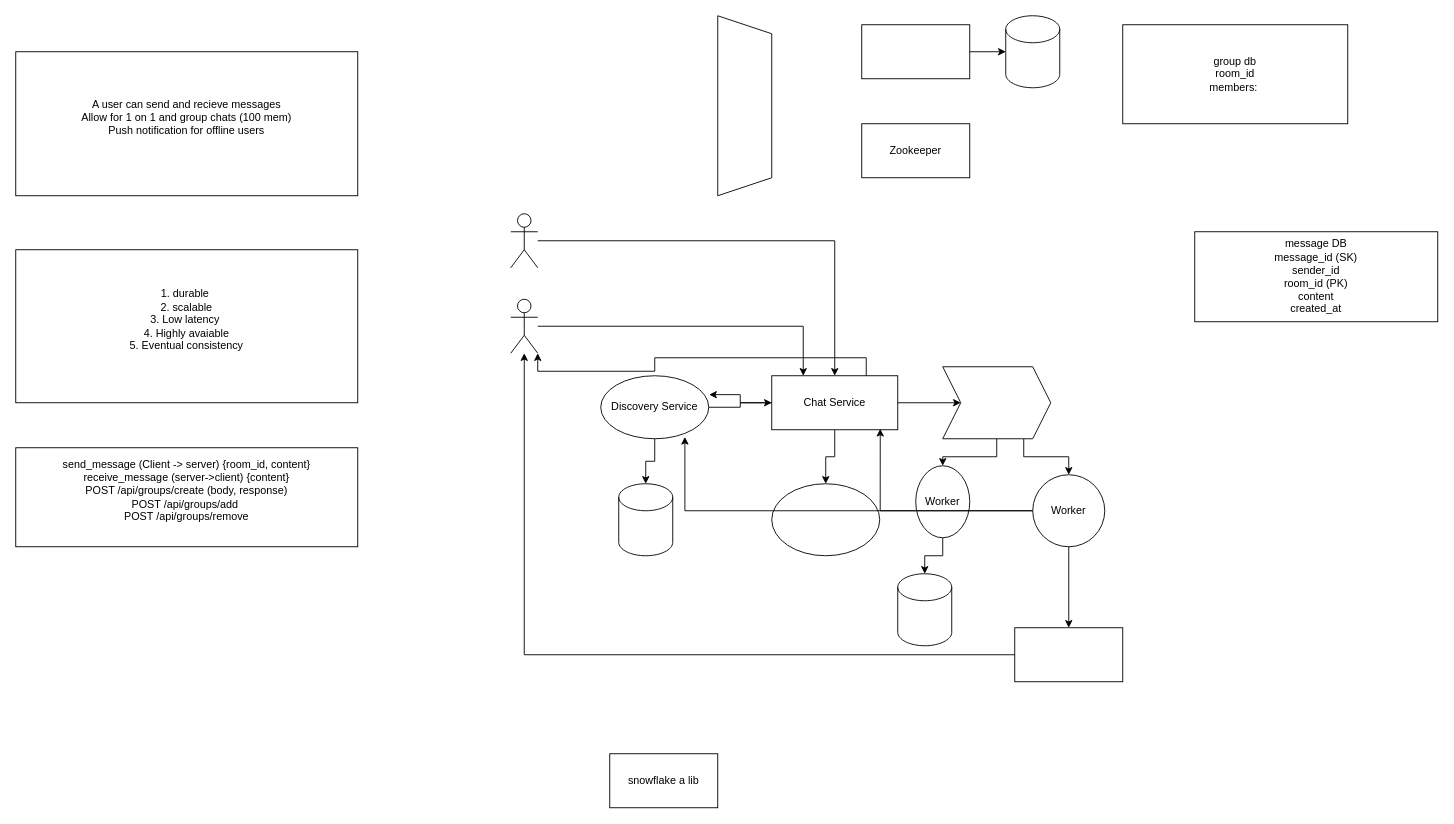
The diagram is 1454 pixels wide and 824 high, and some of its shapes have lost their labels. Here are the shapes that lost their labels. From the top down, the centre of each, then its label:
[524,240]: User A
[524,325]: User B
[825,519]: Unique ID service
[924,609]: Message DB
[1068,654]: PN Service
